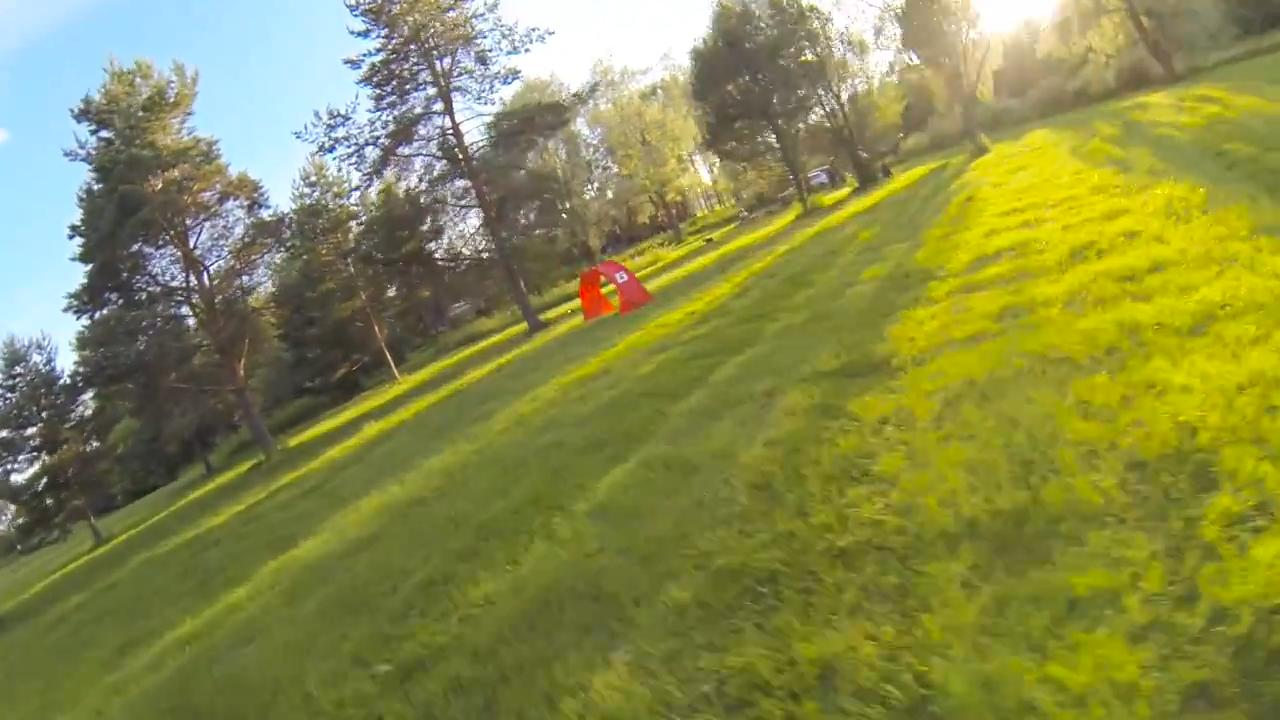gate: (575, 260, 649, 322)
